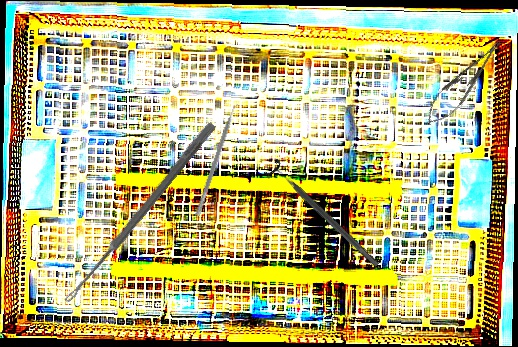Fixation Ring: (262, 157, 386, 274)
Needle Holder: (418, 33, 510, 133)
Spatula Surgical: (195, 102, 241, 218)
Surgical Spoon: (62, 120, 217, 307)
